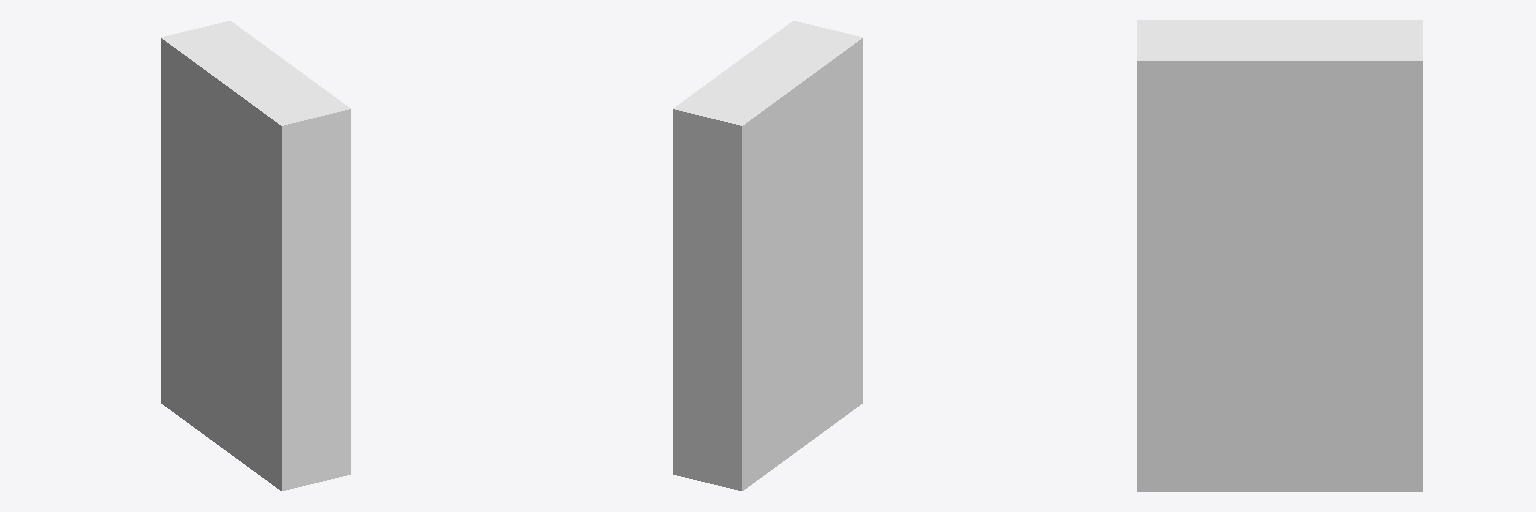
robot.urdf — book:
<?xml version="1.0" ?>
<!-- =================================================================================== -->
<!-- |    This document was autogenerated by xacro from src/wheelchair-automation/wheelchair_description/urdf/wheelchair_with_swivels.xacro | -->
<!-- |    EDITING THIS FILE BY HAND IS NOT RECOMMENDED                                 | -->
<!-- =================================================================================== -->
<robot name="book" xmlns:xacro="http://www.ros.org/wiki/xacro">
  <link name="base_link">
    <visual>
      <geometry>
        <box size="0.05 0.15 0.25"/>
      </geometry>
      <material name="white">
        <color rgba="1 1 1 1"/>
      </material>
    </visual>
    <collision>
      <geometry>
        <box size="0.05 0.15 0.25"/>
      </geometry>
    </collision>
    <inertial>
      <mass value="0.1"/>
      <inertia ixx="1" ixy="0" ixz="0" iyy="1" iyz="0" izz="1"/>
    </inertial>
  </link>
</robot>

--- What the picture shows (computed from the rendered views, not written in the file) ---
3 views of the same robot in one strip: view 1: azimuth 30°, elevation 25°; view 2: azimuth 150°, elevation 25°; view 3: azimuth 270°, elevation 25° (orthographic).
Robot: book — 1 links, 0 joints (none); root link base_link; default pose: every joint at zero.
Links seen in each view (by area): view 1: base_link; view 2: base_link; view 3: base_link.
Link boxes in pixels (x1=…): base_link: x1=161, y1=21, x2=350, y2=490; base_link: x1=673, y1=21, x2=862, y2=490; base_link: x1=1137, y1=20, x2=1422, y2=491.
Bounding box of the posed robot: 0.05 × 0.15 × 0.25 m (x, y, z).
Geometry: primitives only (box / cylinder / sphere), no mesh files.
